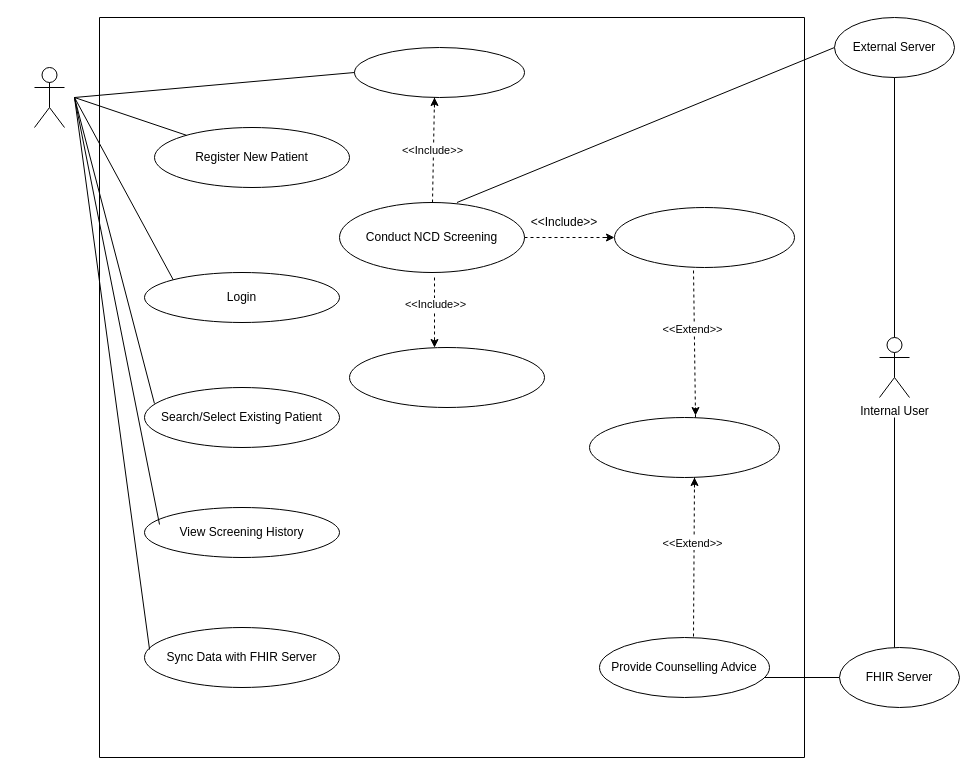
Image size: 977x775. Some labels were removed from this diagram. The box of each missing label's shape, as (x1, y1, x2, y2) in pixels:
Community Health worker: (34, 66, 64, 128)
Generate Referral: (614, 206, 794, 268)
Record Risk Factor Questionnaire: (348, 346, 544, 408)
Record Vital Sign: (354, 46, 524, 98)
View Screening summary/Results: (588, 416, 780, 478)
